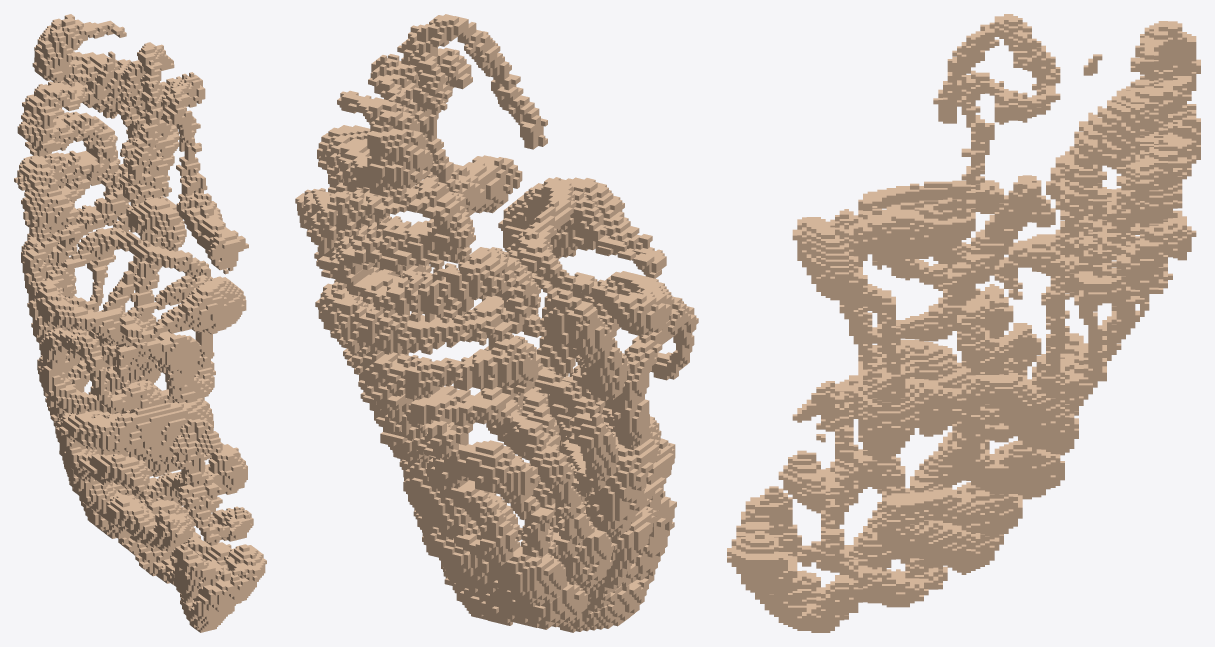
The model's file is intestine.fbx.
3 views of the same model, side by side, from view 1: azimuth 30°, elevation 25°; view 2: azimuth 150°, elevation 25°; view 3: azimuth 270°, elevation 25° (orthographic). The views are drawn at different scales.
Visible parts, largest first — view 1: AustinMan; view 2: AustinMan; view 3: AustinMan.
Part boxes in pixels (x1,y1,x2,y2): AustinMan: [14, 14, 266, 632]; AustinMan: [295, 14, 698, 632]; AustinMan: [727, 14, 1200, 632].
Size of the model in its own units: 6000 by 14600 by 10100.
